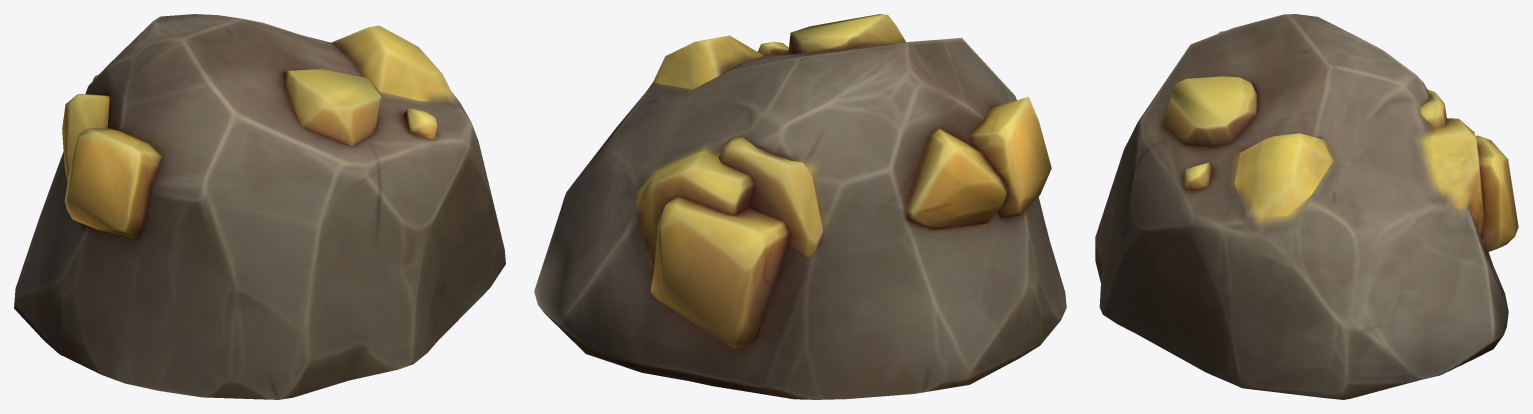
Rendered from SM_Gem_Gold_001.fbx.
3 renders of one model, left to right at view 1: azimuth 30°, elevation 25°; view 2: azimuth 150°, elevation 25°; view 3: azimuth 270°, elevation 25°, orthographic. The views are drawn at different scales.
Parts seen in each view (by area): view 1: SM_Gem_Gold_001; view 2: SM_Gem_Gold_001; view 3: SM_Gem_Gold_001.
Part boxes in pixels (box(x1,y1,x2,y2)): SM_Gem_Gold_001: box(14, 14, 505, 399); SM_Gem_Gold_001: box(534, 14, 1066, 399); SM_Gem_Gold_001: box(1095, 14, 1518, 399).
Size of the model in its own units: 69.95 by 41.01 by 64.08.
